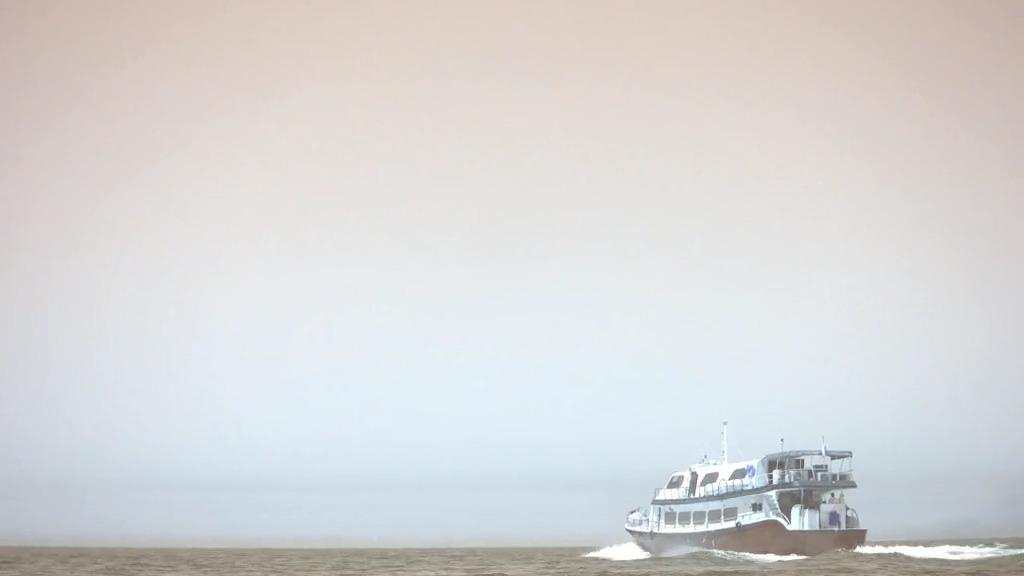PassengerShip: (619, 412, 875, 562)
